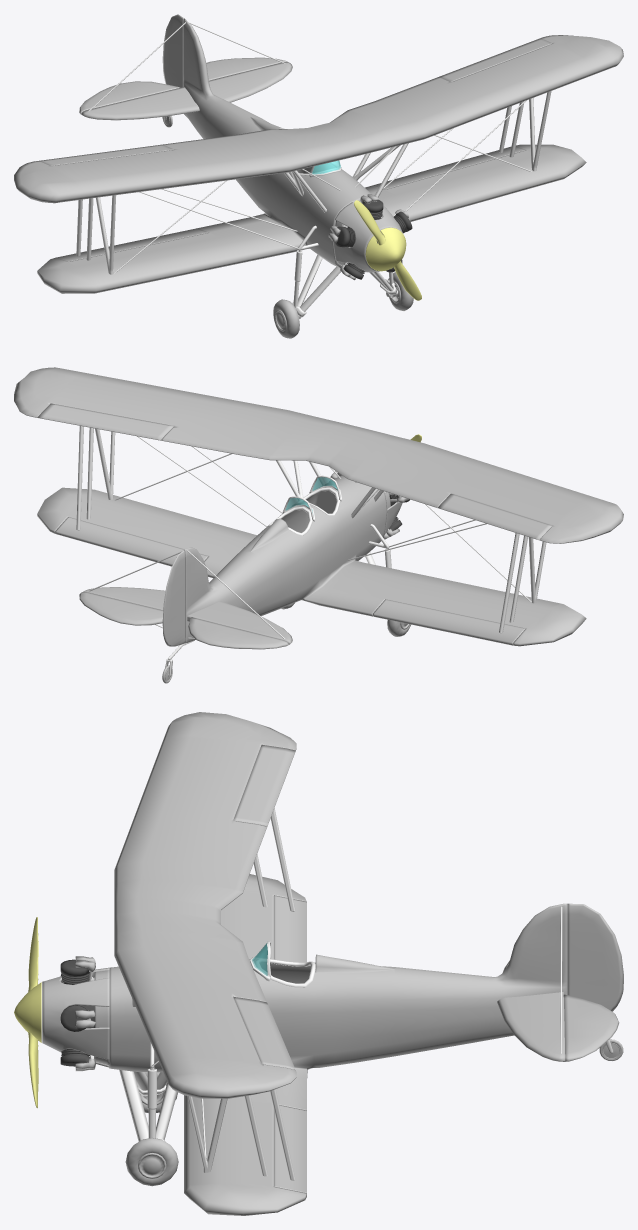
Rendered from biplane.obj.
3 views of the same model, one above another, from view 1: azimuth 30°, elevation 25°; view 2: azimuth 150°, elevation 25°; view 3: azimuth 270°, elevation 25° (orthographic). The views are drawn at different scales.
Parts seen in each view (by area): view 1: TopWing, Fuselage, TailHoriz, WingStruts, Elevator, SpanWires, EngCowling1, Engine, Rudder, PropCone, L_TopAileron, LBotAileron (+6 smaller); view 2: Fuselage, TopWing, Elevator, WingStruts, RBotAileron, TailHoriz, LBotAileron, L_TopAileron, R_TopAileron, Rudder, SpanWires, CockpitTrim (+2 smaller); view 3: TopWing, Fuselage, Rudder, EngCowling1, TailHoriz, R_TopAileron, Elevator, LBotAileron, Engine, L_TopAileron, RBotAileron, LWheel (+4 smaller).
Part boxes in pixels (x1=…): TopWing: x1=14, y1=35, x2=623, y2=203; Fuselage: x1=37, y1=18, x2=586, y2=293; TailHoriz: x1=81, y1=61, x2=292, y2=120; WingStruts: x1=86, y1=91, x2=551, y2=274; Elevator: x1=79, y1=57, x2=286, y2=113; SpanWires: x1=88, y1=22, x2=531, y2=273; EngCowling1: x1=333, y1=202, x2=403, y2=272; Engine: x1=328, y1=194, x2=412, y2=280; Rudder: x1=162, y1=14, x2=183, y2=87; PropCone: x1=365, y1=227, x2=406, y2=271; L_TopAileron: x1=438, y1=38, x2=551, y2=81; LBotAileron: x1=373, y1=146, x2=525, y2=189; Fuselage: x1=37, y1=475, x2=586, y2=646; TopWing: x1=14, y1=367, x2=623, y2=543; Elevator: x1=79, y1=592, x2=289, y2=649; WingStruts: x1=86, y1=427, x2=546, y2=622; RBotAileron: x1=373, y1=599, x2=525, y2=645; TailHoriz: x1=83, y1=587, x2=292, y2=643; LBotAileron: x1=55, y1=517, x2=208, y2=566; L_TopAileron: x1=37, y1=403, x2=173, y2=440; R_TopAileron: x1=438, y1=493, x2=552, y2=540; Rudder: x1=162, y1=550, x2=185, y2=646; SpanWires: x1=88, y1=436, x2=531, y2=638; CockpitTrim: x1=267, y1=487, x2=340, y2=535; TopWing: x1=114, y1=712, x2=296, y2=1098; Fuselage: x1=109, y1=874, x2=567, y2=1215; Rudder: x1=567, y1=903, x2=623, y2=1011; EngCowling1: x1=42, y1=967, x2=109, y2=1067; TailHoriz: x1=497, y1=960, x2=565, y2=1061; R_TopAileron: x1=233, y1=744, x2=295, y2=826; Elevator: x1=563, y1=994, x2=619, y2=1061; LBotAileron: x1=274, y1=1105, x2=306, y2=1193; Engine: x1=60, y1=956, x2=95, y2=1071; L_TopAileron: x1=233, y1=996, x2=295, y2=1069; RBotAileron: x1=274, y1=895, x2=306, y2=962; LWheel: x1=125, y1=1138, x2=178, y2=1186.
Bounding box in the file's own units: 8.14 × 2.54 × 5.53.
